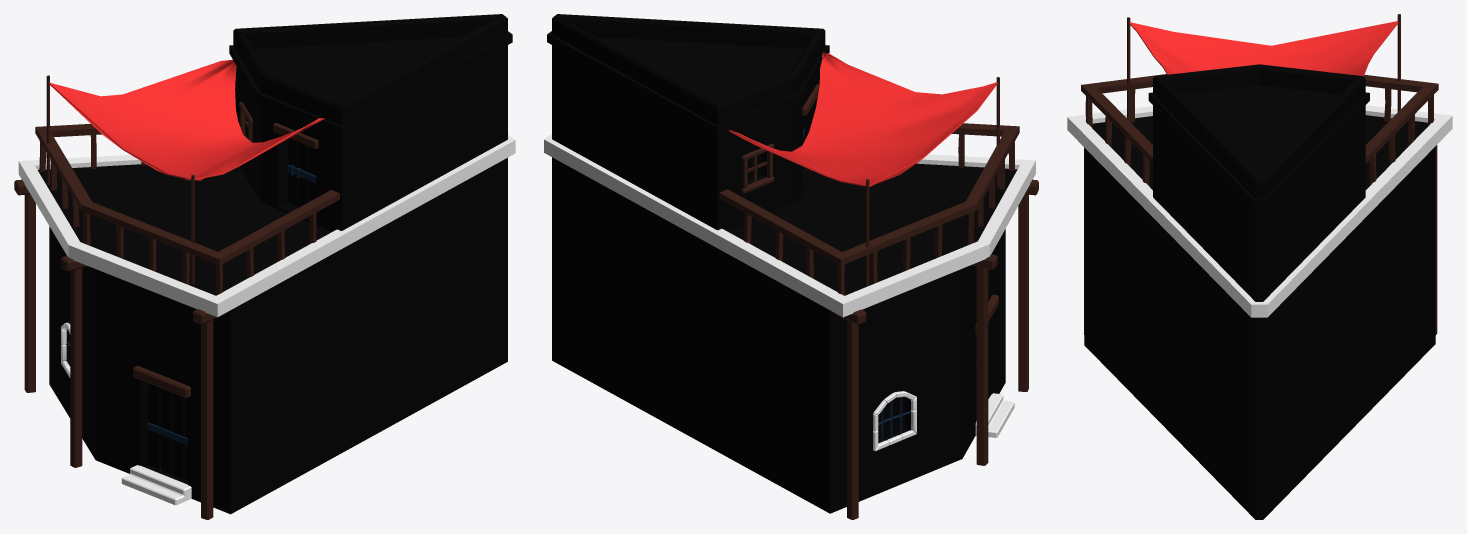
File: civilian_house_30_f.FBX
3 views of the same model, side by side, from view 1: azimuth 30°, elevation 25°; view 2: azimuth 150°, elevation 25°; view 3: azimuth 270°, elevation 25° (orthographic).
Visible parts, largest first — view 1: civilian_house_30_f; view 2: civilian_house_30_f; view 3: civilian_house_30_f.
Boxes of the visible parts, left/top/right/bottom form: civilian_house_30_f: left=14, top=14, right=515, bottom=519; civilian_house_30_f: left=544, top=14, right=1038, bottom=519; civilian_house_30_f: left=1067, top=14, right=1452, bottom=519.
Size of the model in its own units: 1268 by 933 by 960.
